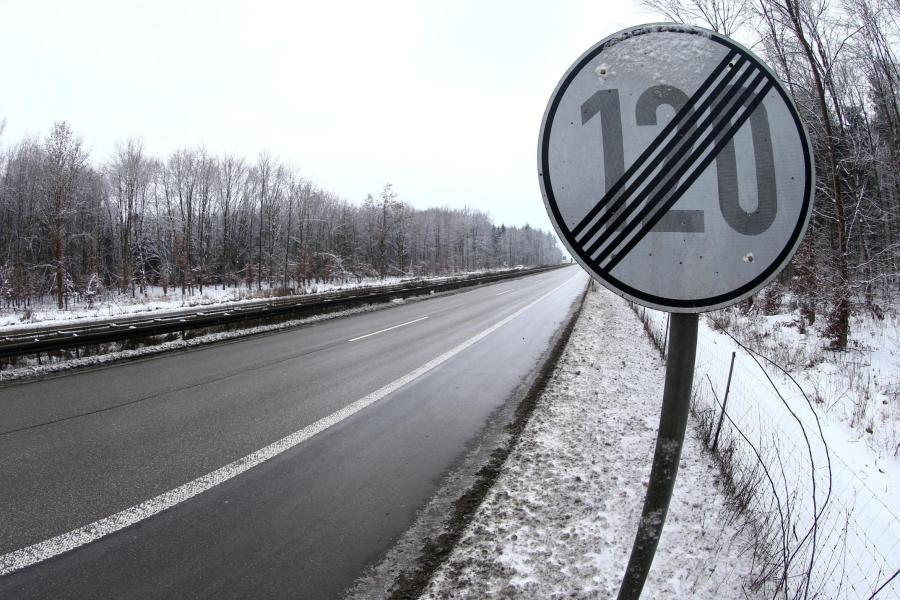aufgehoben: (535, 23, 816, 315)
